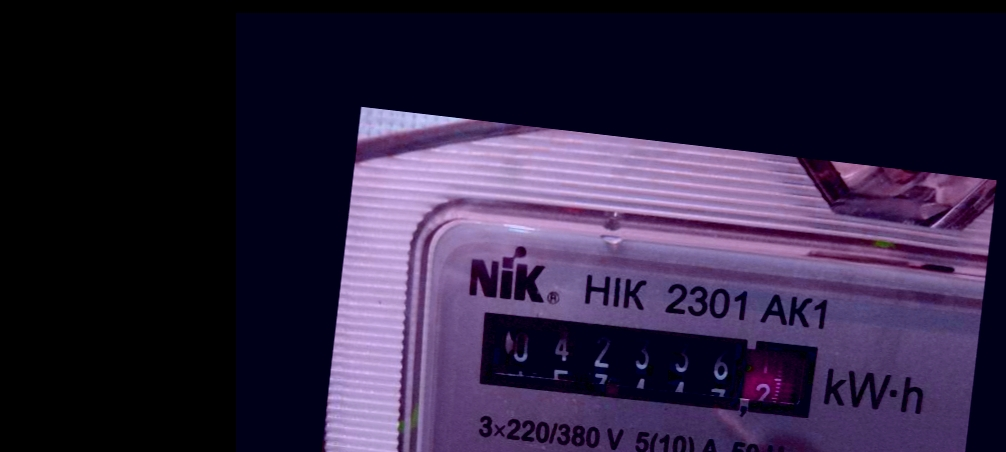0: (511, 327, 535, 364)
1: (759, 347, 775, 377)
2: (592, 332, 616, 370), (753, 380, 774, 403)
3: (671, 337, 695, 376), (633, 333, 656, 373)
4: (552, 325, 575, 364)
6: (709, 345, 735, 382)
screen: (469, 298, 830, 431)
